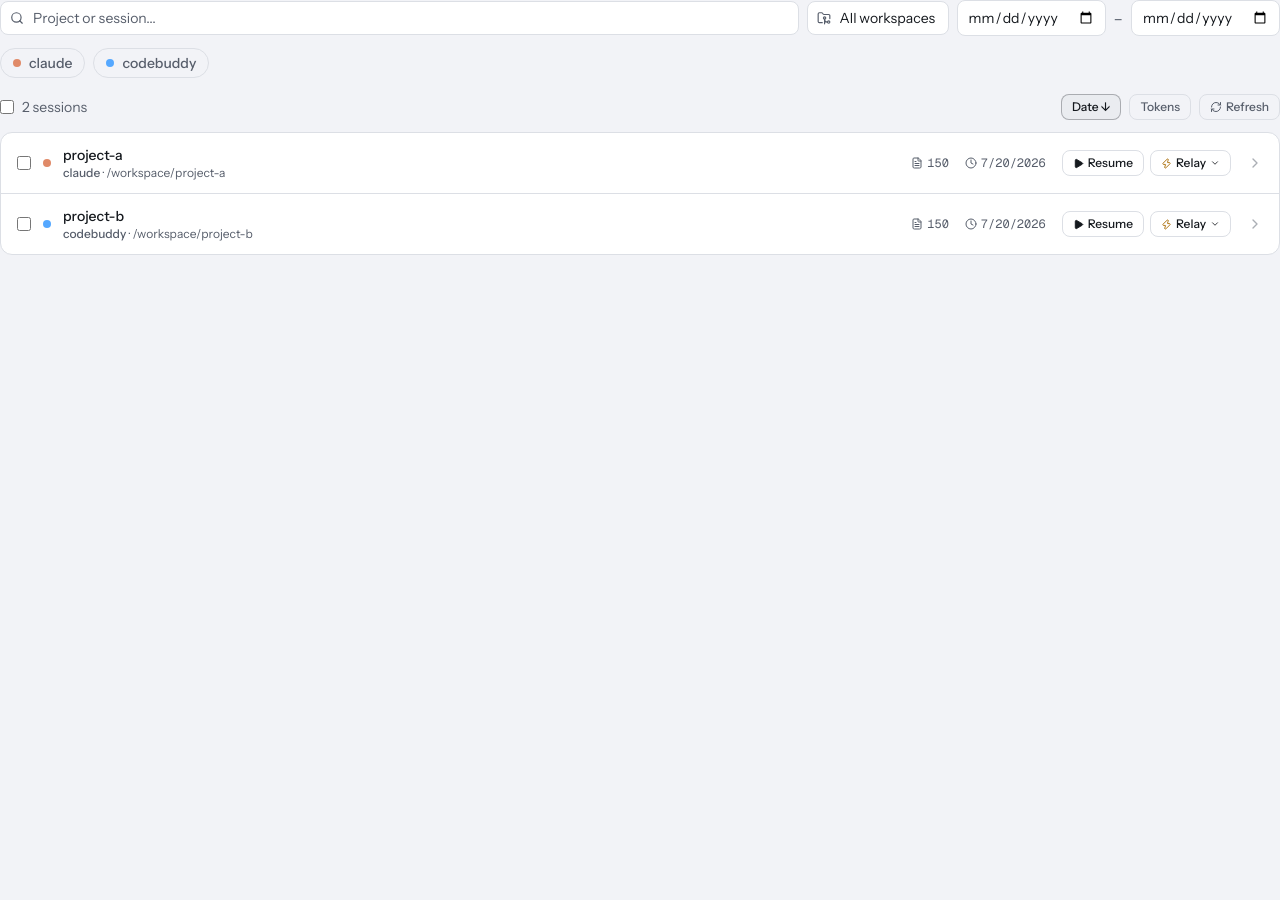
Test: SessionsPage batch delete › select-all-filtered then delete removes every visible session
Expected: the text "2 sessions" is shown, [0, 97, 87, 117]
What coordinates should you click on to do the following:
click the checkbox named "Select all sessions matching the current filters"
I would click on:
 (7, 107)
Its box is [0, 100, 14, 114].
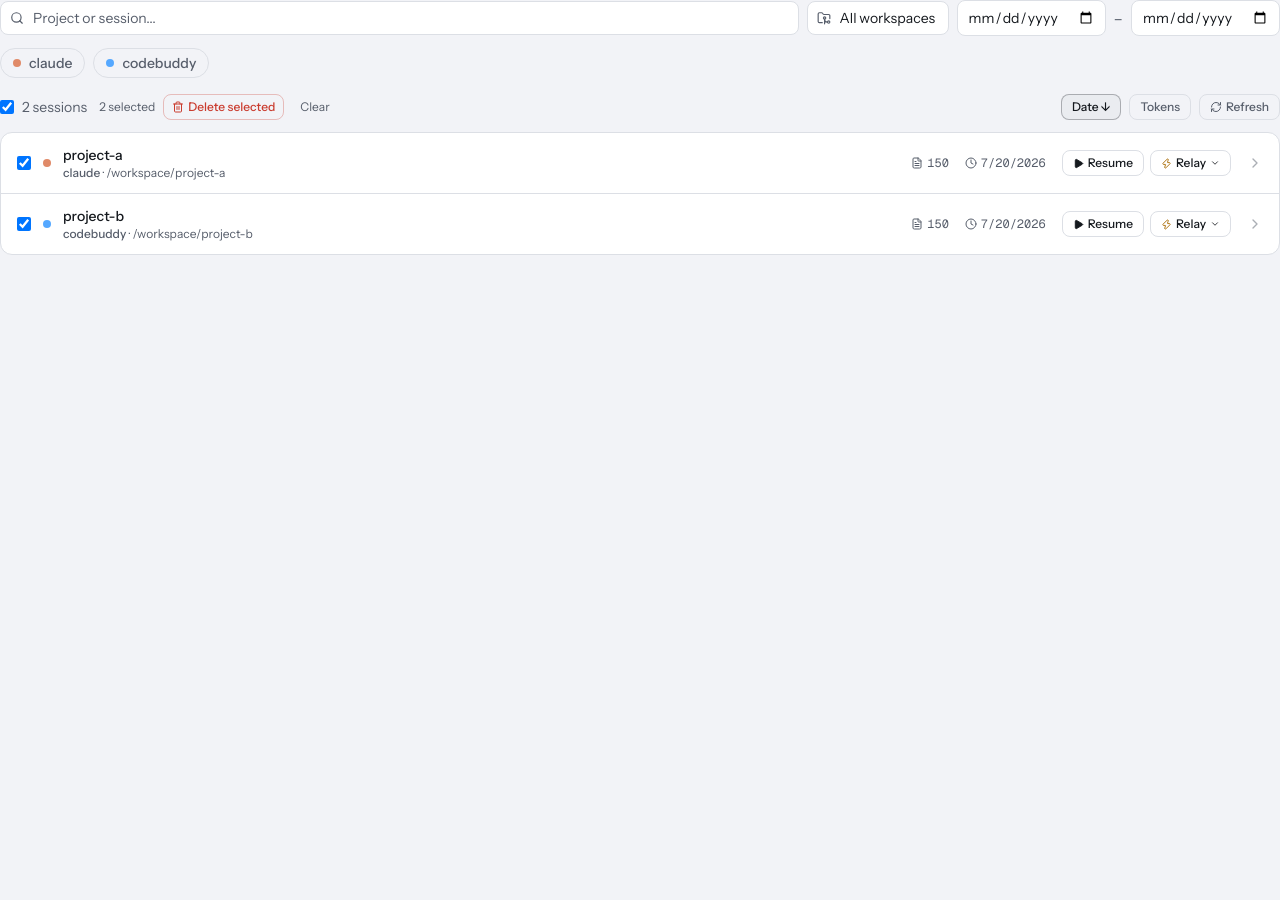
Expected: the text "2 selected" is shown, [99, 99, 155, 115]
What coordinates should you click on to do the following:
click the button "Delete selected"
I would click on:
 (224, 107)
Its box is [163, 94, 284, 120].
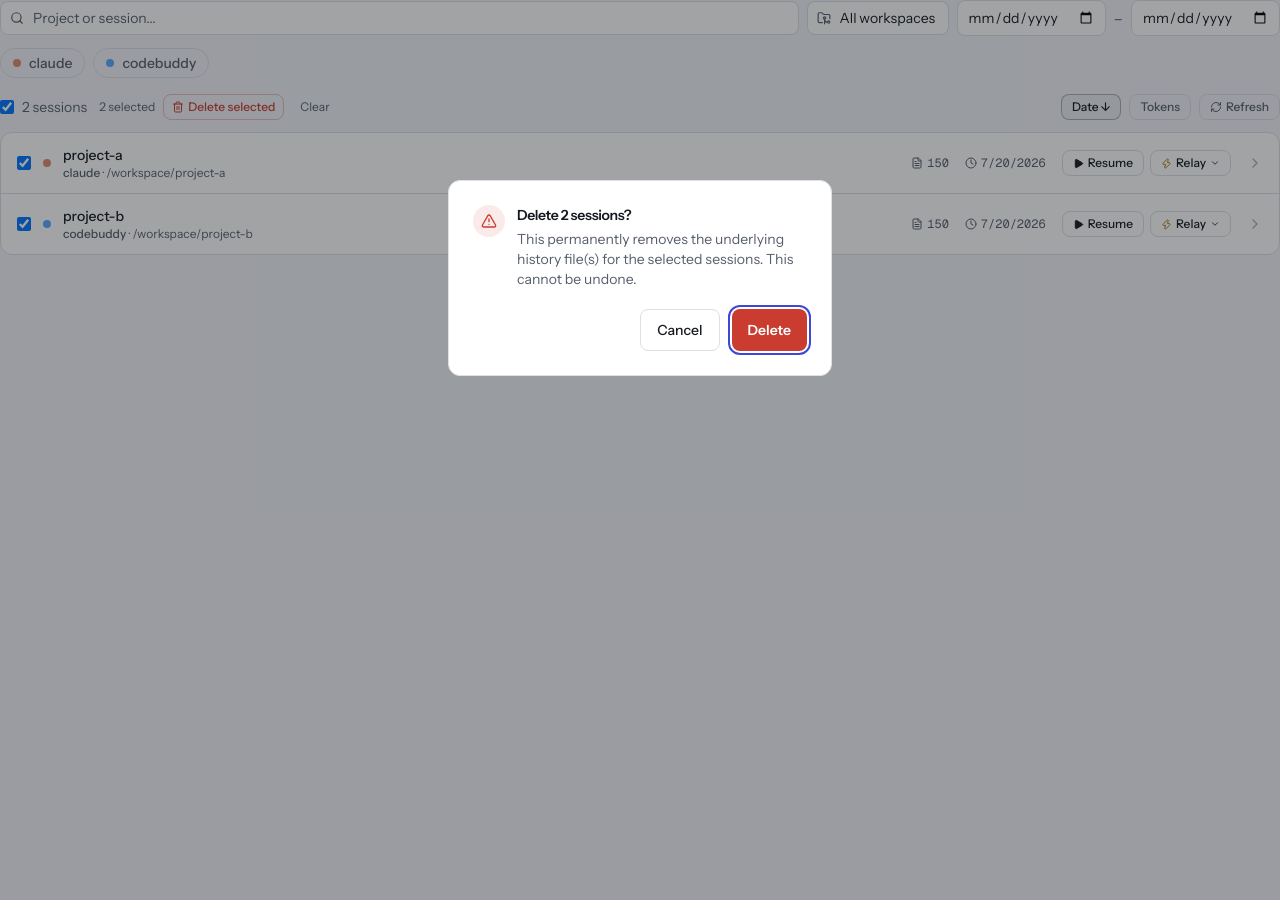
What coordinates should you click on to do the following:
click the button "Delete"
I would click on:
 (769, 330)
Its box is [732, 309, 807, 351].
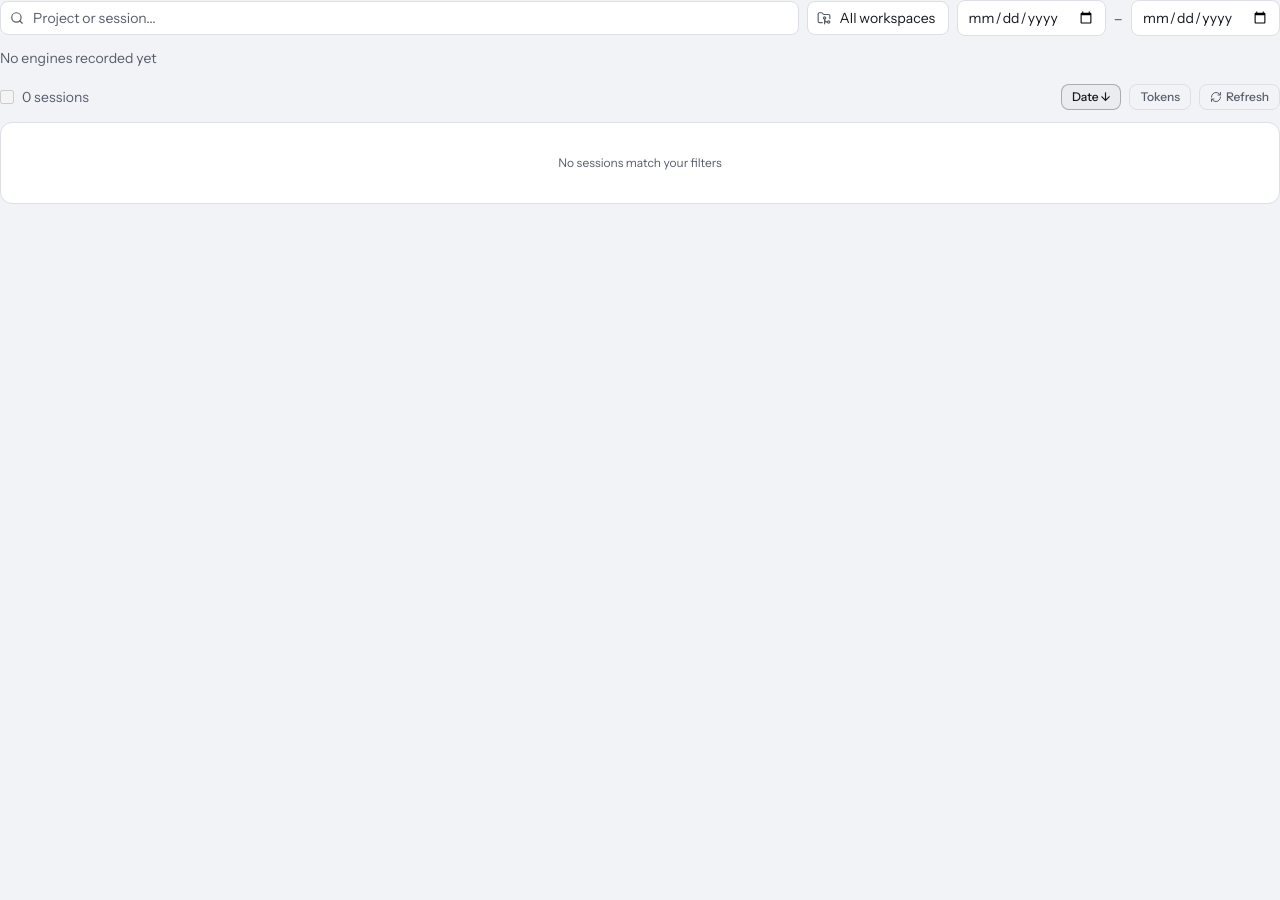
Expected: the text "No sessions match your filters" is shown, [558, 155, 722, 171]
